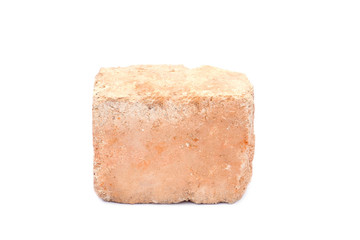brick: (96, 65, 250, 201)
